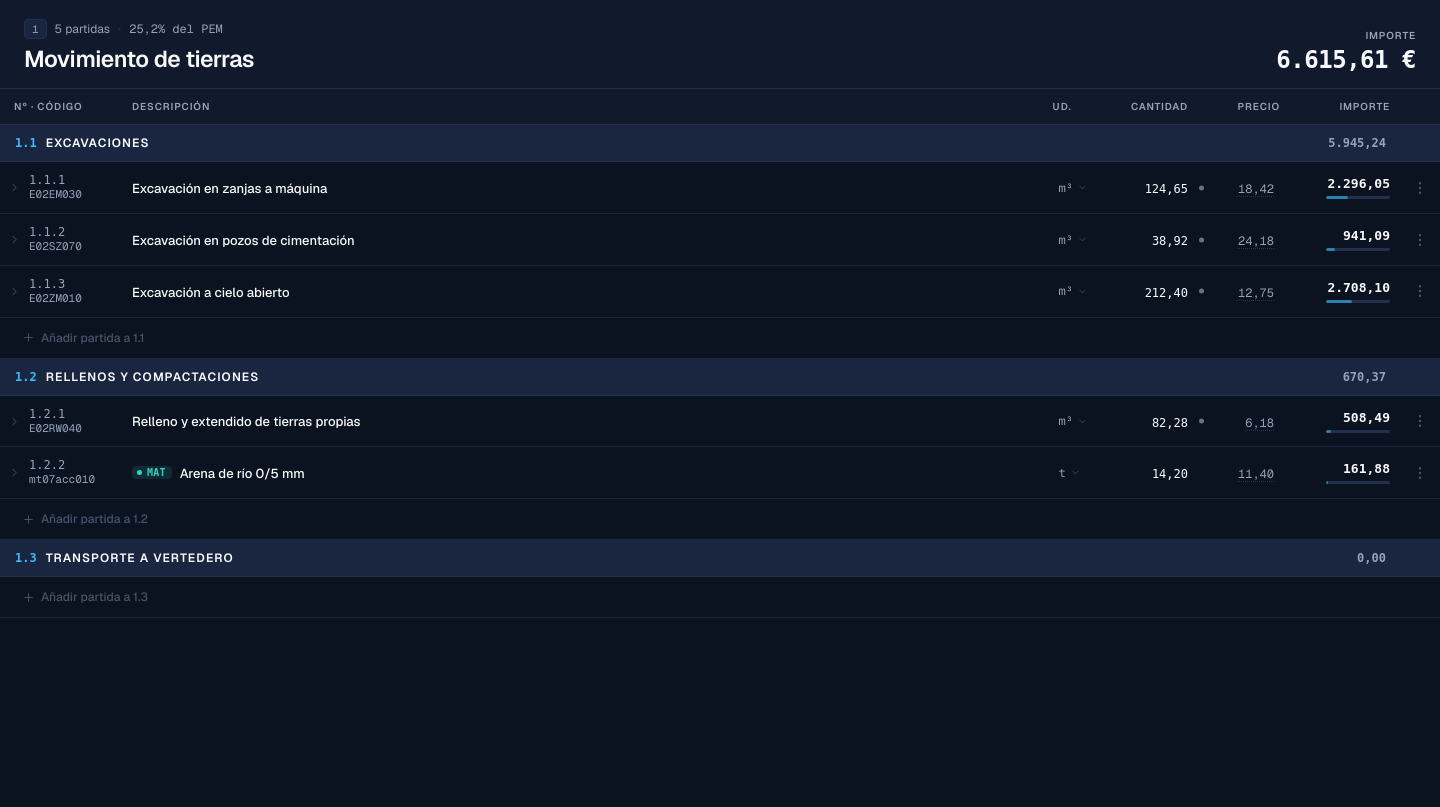
Test: Desplegar partida accesible — tabla (escritorio) › el chevron es un botón con aria-expanded que abre y cierra el detalle
Step 1. Click the button named "Desplegar partida " → click(14, 188), box top-left (8, 181), bottom-right (21, 194)
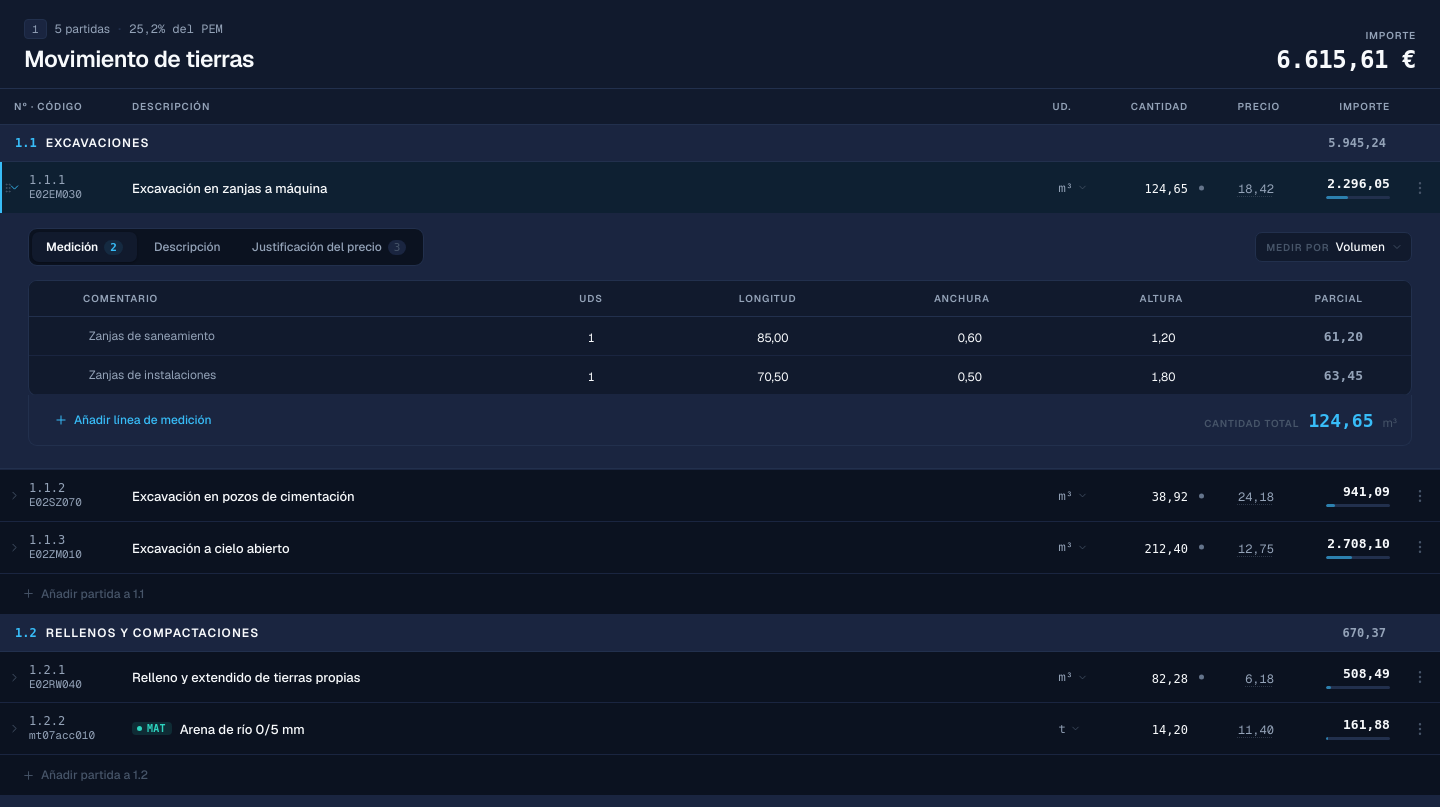
Now the button "Añadir línea de medición" is shown, box top-left (43, 405), bottom-right (222, 435)
Now the button named "Contraer partida " is expanded
Step 2. Click the button named "Contraer partida " → click(14, 188), box top-left (8, 181), bottom-right (21, 194)
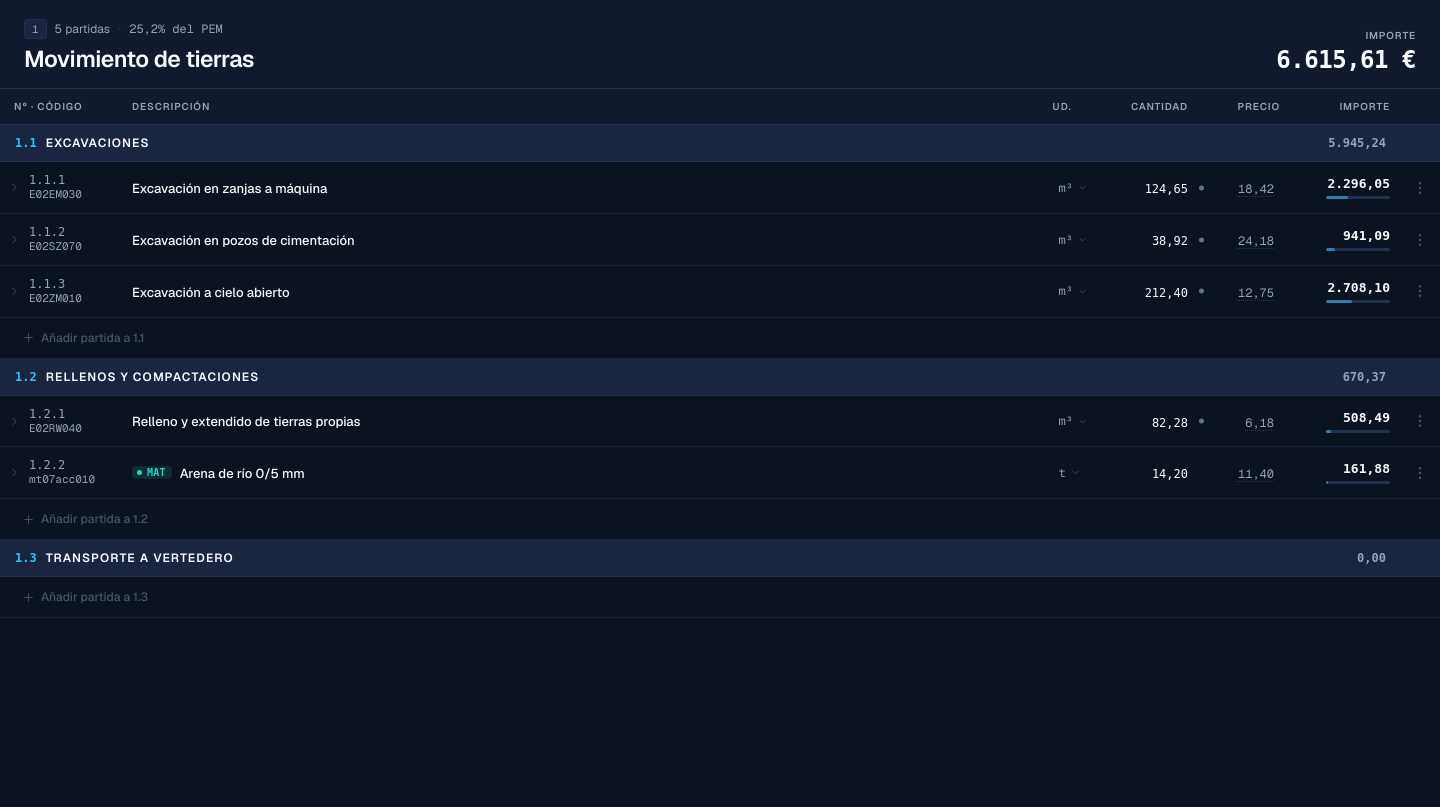
Now the button "Añadir línea" is gone
